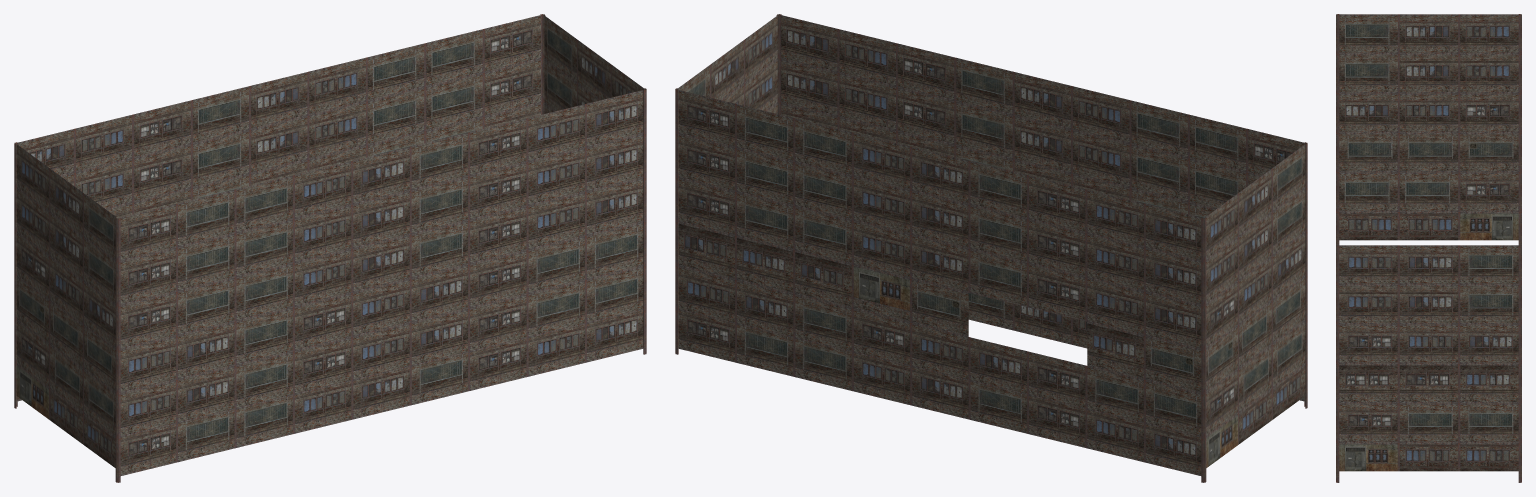
Rendered from Apt3_HD.FBX.
3 renders of one model, left to right at view 1: azimuth 30°, elevation 25°; view 2: azimuth 150°, elevation 25°; view 3: azimuth 270°, elevation 25°, orthographic. The views are drawn at different scales.
Visible parts, largest first — view 1: Apt3_HDBase; view 2: Apt3_HDBase; view 3: Apt3_HDBase.
Boxes of the visible parts, bbox=[...] form: Apt3_HDBase: bbox=[14, 14, 646, 482]; Apt3_HDBase: bbox=[675, 14, 1307, 482]; Apt3_HDBase: bbox=[1336, 14, 1521, 482].
Size of the model in its own units: 7189 by 3427 by 2435.
1 material, 1 textured.
